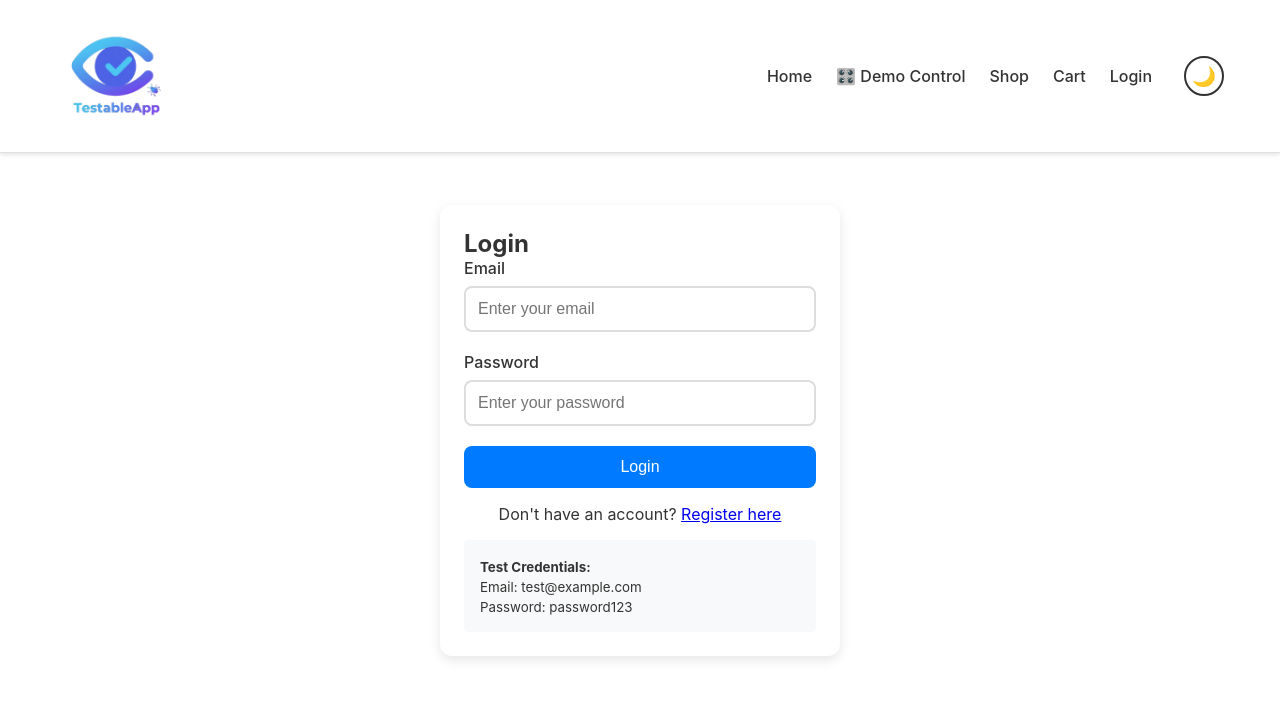
Test case: Authentication Flow › Login Page › should show validation errors for empty fields
Click the button with test id "login-submit" at [640, 467], box x1=464 y1=446 x2=816 y2=488
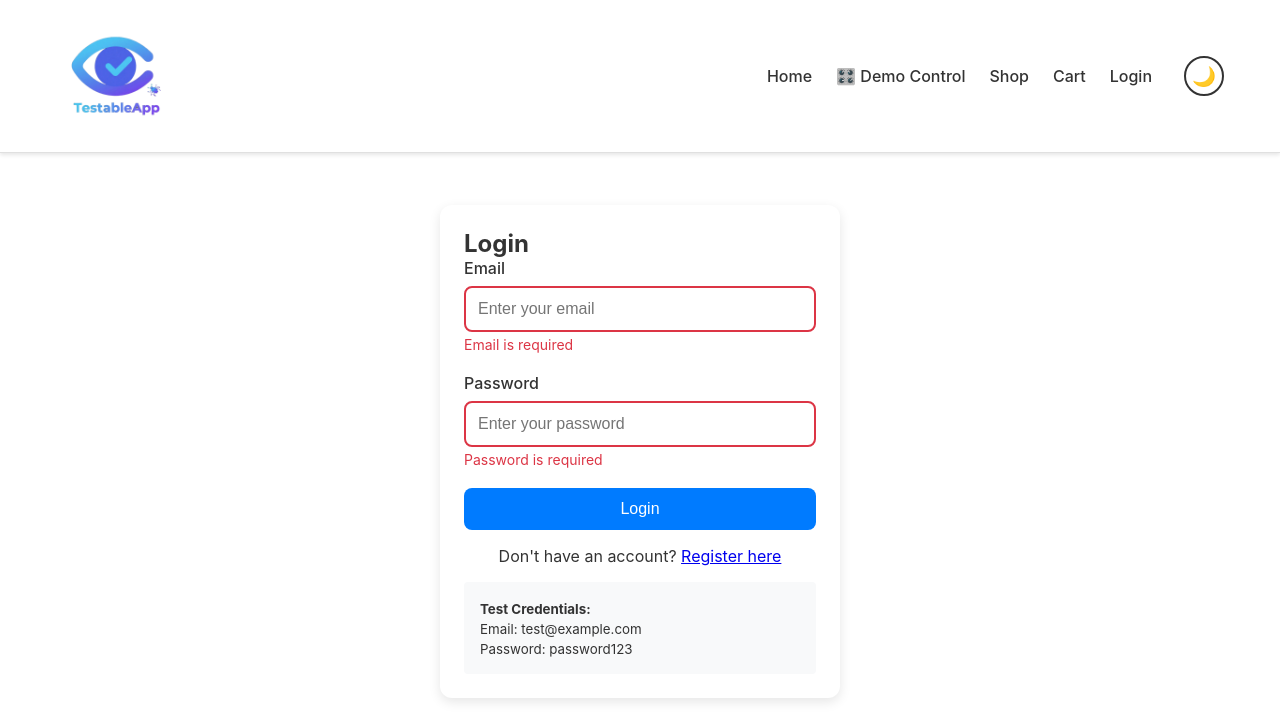
Expected: the text with test id "email-error" reads "Email is required", x1=464 y1=336 x2=573 y2=353
Expected: the text with test id "password-error" reads "Password is required", x1=464 y1=451 x2=603 y2=468
